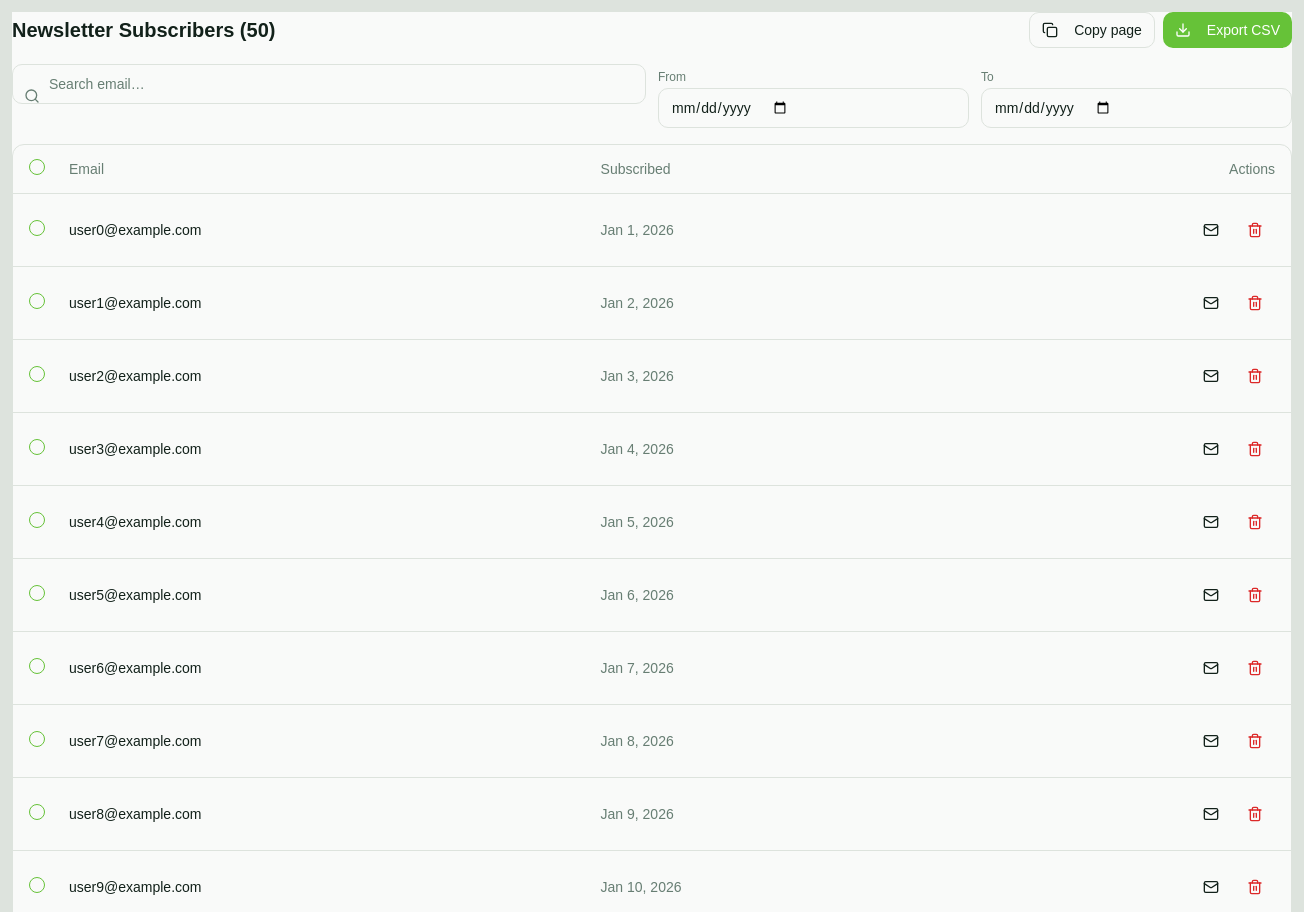
Test: NewsletterSubscribersManager › shows spinner and disables resend button while in flight
Expected: the text "user0@example.com" is shown, [53,193,584,266]
Click the button named "resend welcome email" in the row of "user0@example.com" at (1211, 230), box [1191,210,1231,250]
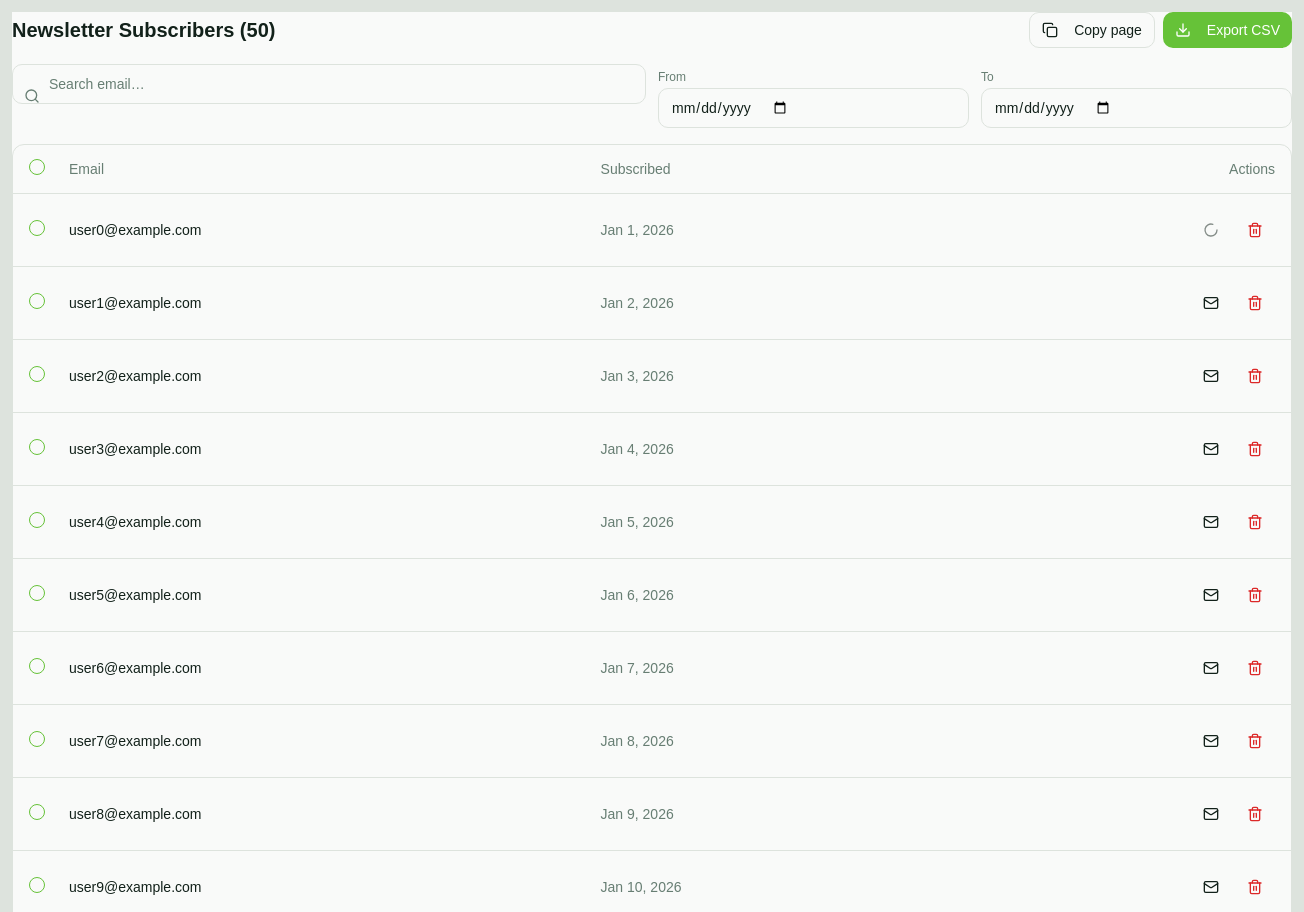
Expected: the button named "resend welcome email" in the row of "user1@example.com" is enabled, [1191,282,1231,322]
Expected: the button named "Sending welcome email" is disabled, [1191,210,1231,250]
